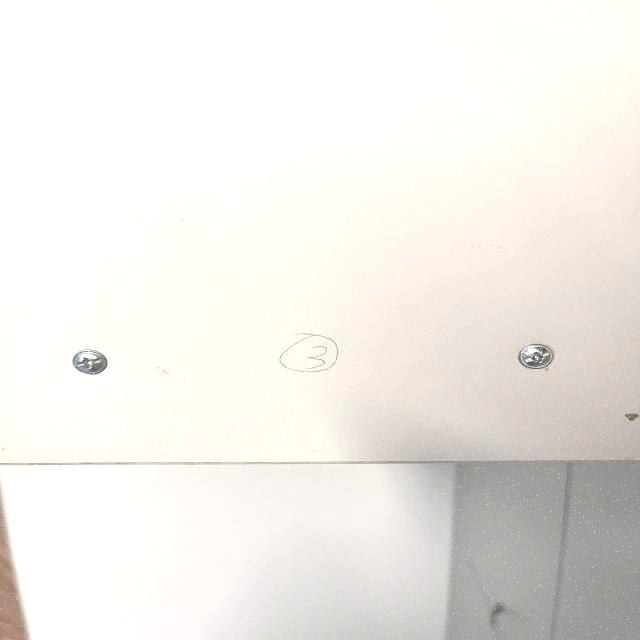pozidriv: (72, 348, 108, 375), (518, 343, 554, 369)
